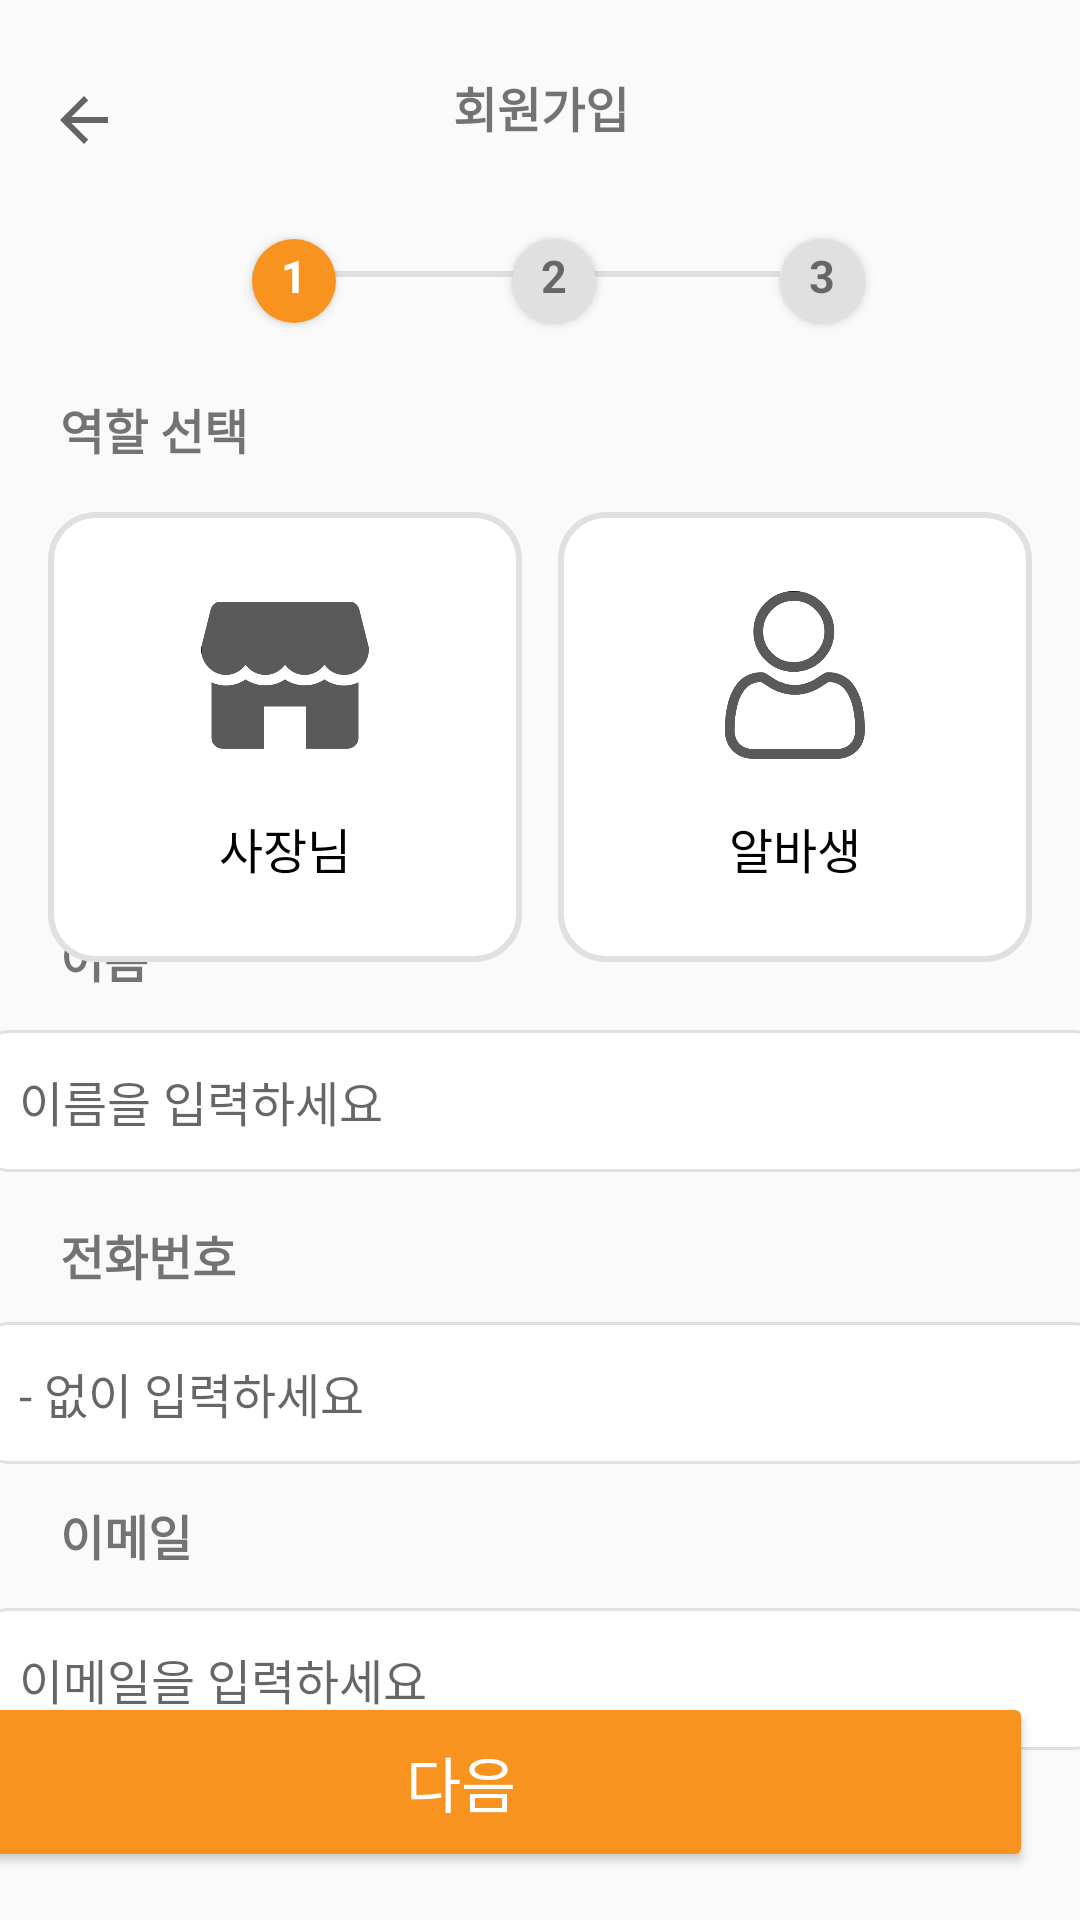

Locate icon controls on the screen. Image size 1080px x 1920px, boxes as (x1=x1, y1=y1, x2=x2, y2=y2).
user: (x1=725, y1=591, x2=865, y2=759)
